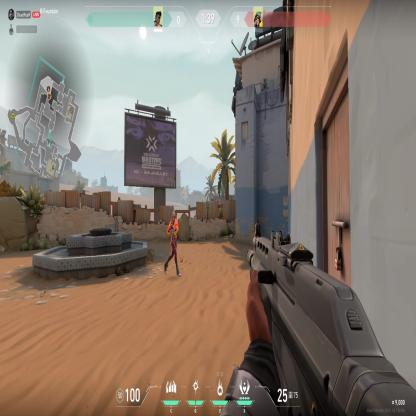enemy: (163, 208, 182, 279)
